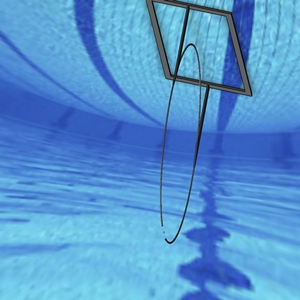circle: (144, 1, 253, 244)
